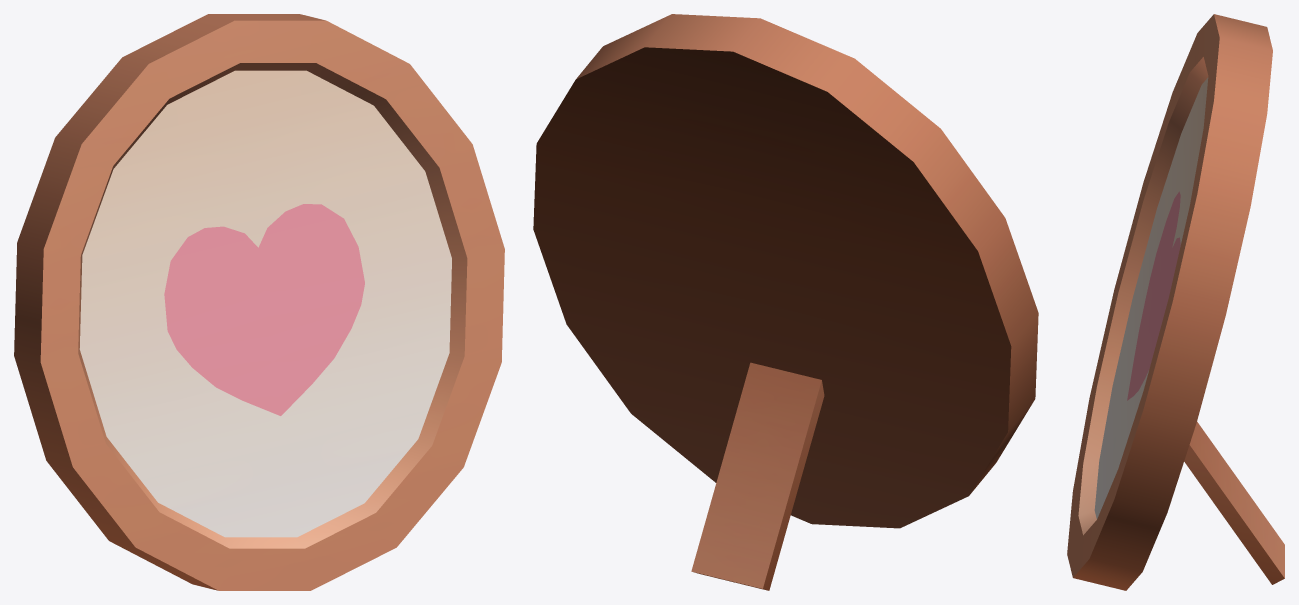
The model's file is Doll_OB_Love_1.fbx.
The picture shows the model from 3 angles, left to right: view 1: azimuth 30°, elevation 25°; view 2: azimuth 150°, elevation 25°; view 3: azimuth 270°, elevation 25°; orthographic projection. The views are drawn at different scales.
Visible parts, largest first — view 1: Doll_OB_Love_1; view 2: Doll_OB_Love_1; view 3: Doll_OB_Love_1.
Boxes of the visible parts, box(x1,y1,x2,y2) form: Doll_OB_Love_1: box(14, 14, 504, 590); Doll_OB_Love_1: box(533, 14, 1038, 590); Doll_OB_Love_1: box(1067, 14, 1284, 590).
Bounding box in the file's own units: 16.14 × 17.56 × 6.54.
